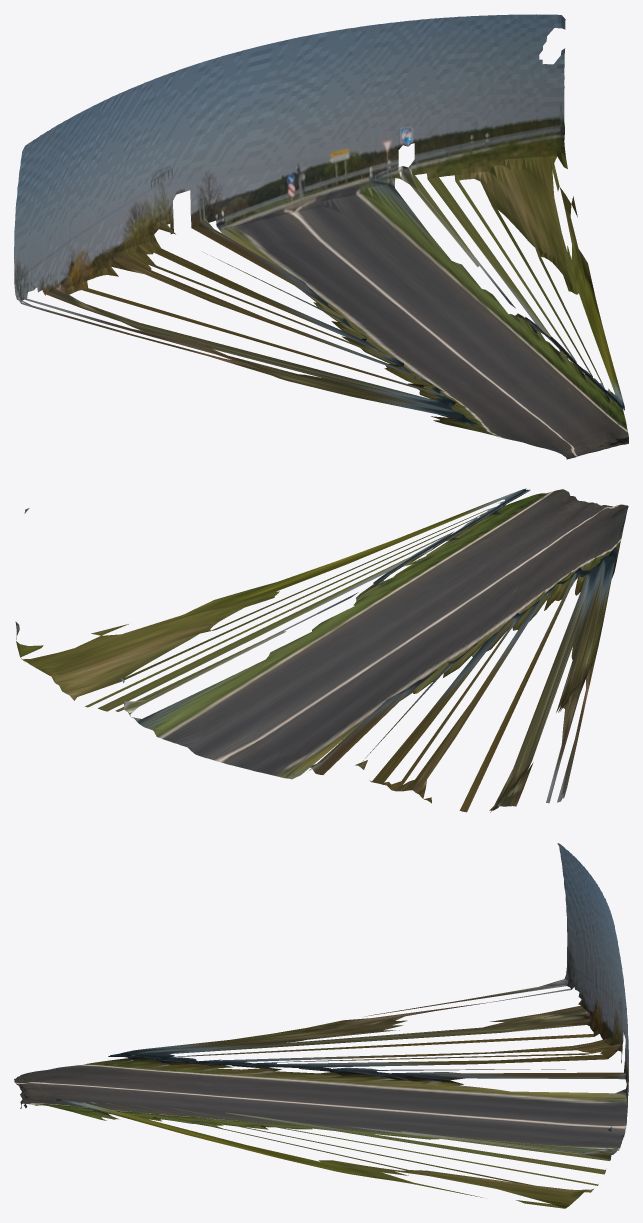
3 views of the same model, one above another, from view 1: azimuth 30°, elevation 25°; view 2: azimuth 150°, elevation 25°; view 3: azimuth 270°, elevation 25° (orthographic). The views are drawn at different scales.
Visible parts, largest first — view 1: defaultobject; view 2: defaultobject; view 3: defaultobject.
Part boxes in pixels (<box>): defaultobject: <box>14,14,628,459</box>; defaultobject: <box>15,488,628,812</box>; defaultobject: <box>14,843,628,1208</box>.
Bounding box in the file's own units: 41.16 × 13.41 × 44.66.
1 material, 1 textured.
